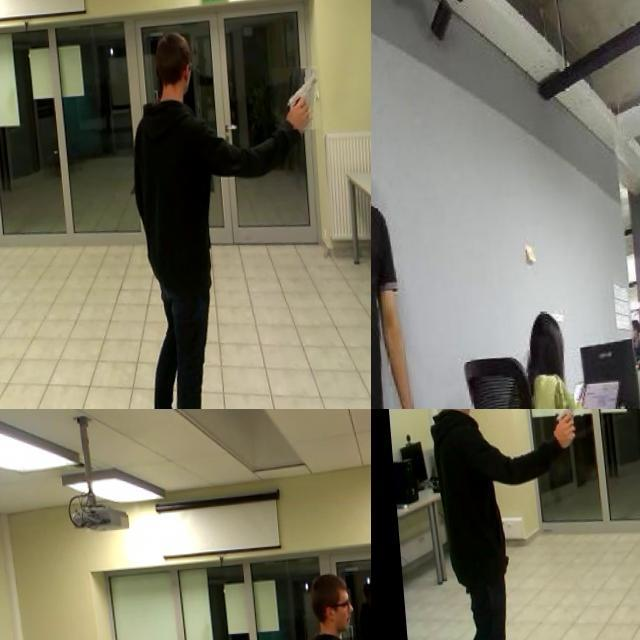gun-knife-thesis - v11 Yolov5 augmented: (267, 73, 316, 139), (546, 409, 580, 442)
